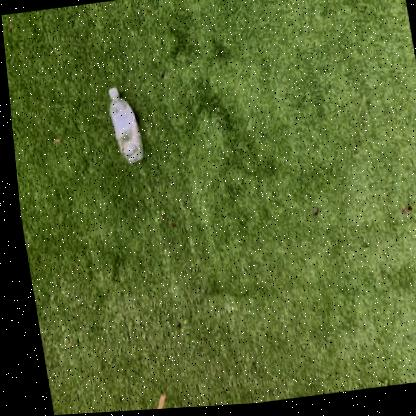Plastic: (107, 87, 140, 164)
